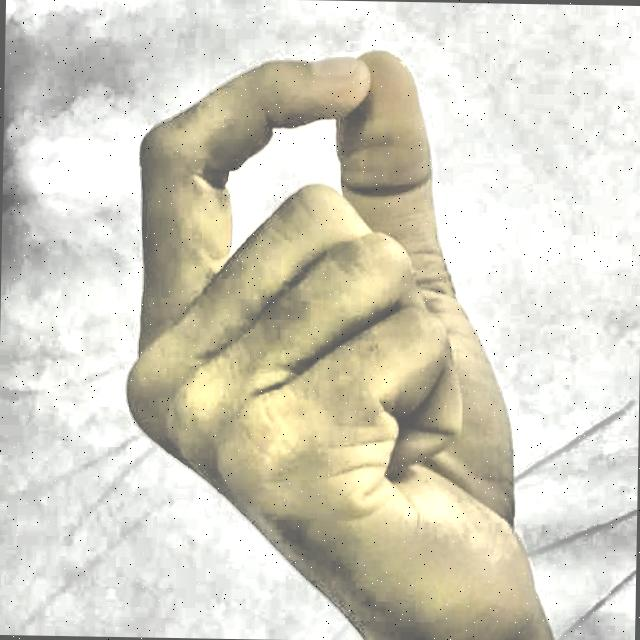Gha: (90, 31, 570, 640)
